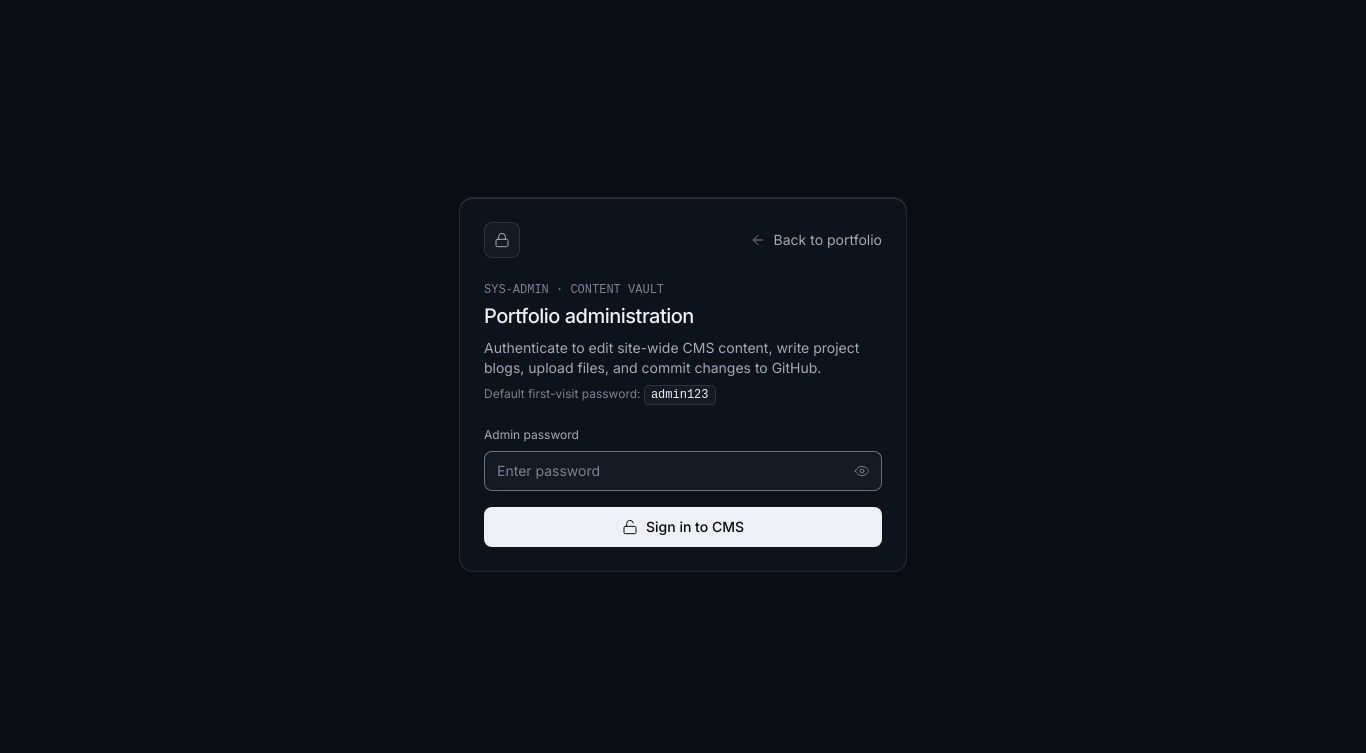
M4 vault + GitHub publish (real behavior) › Commit & push without a token reports an error and makes no GitHub request
Type "admin123" into the password field with placeholder "Enter password" at (683, 470), box [484,450,882,490]
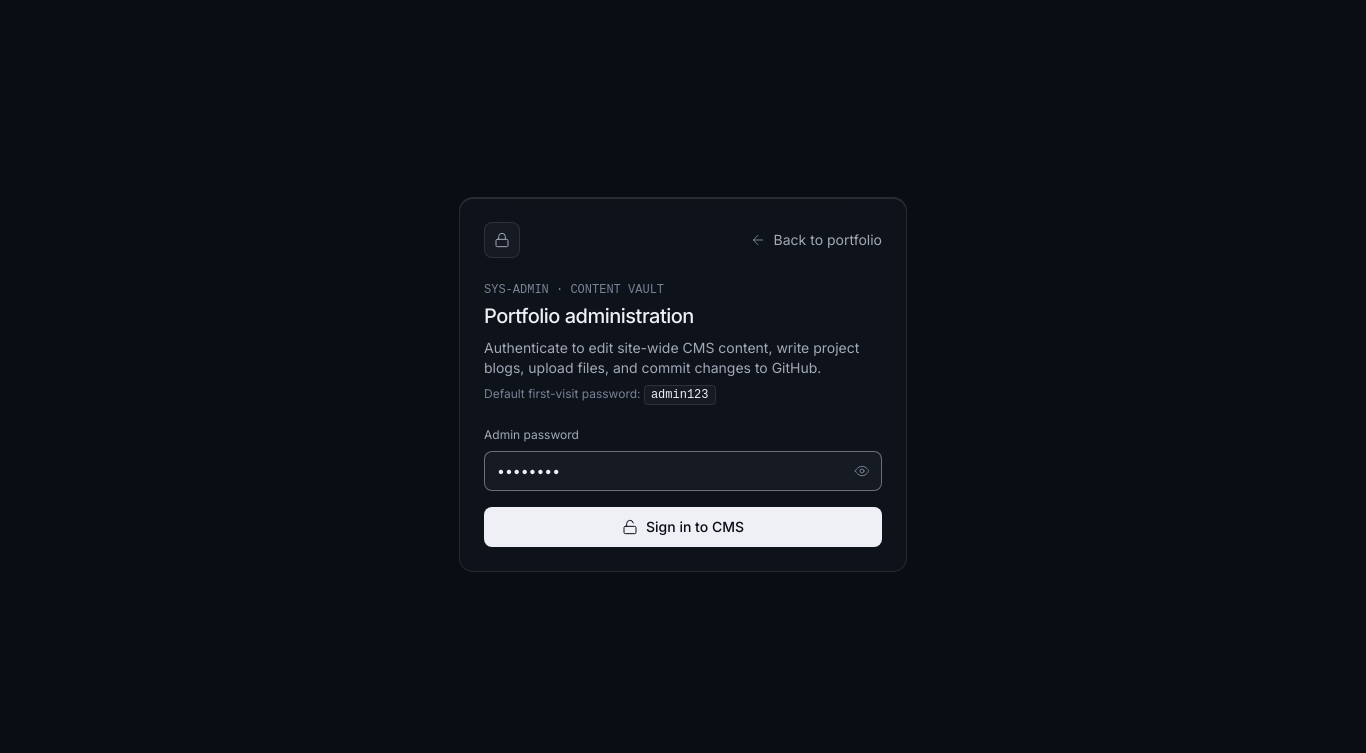
Click the button "Sign in to CMS" at (683, 526), box [484,506,882,546]
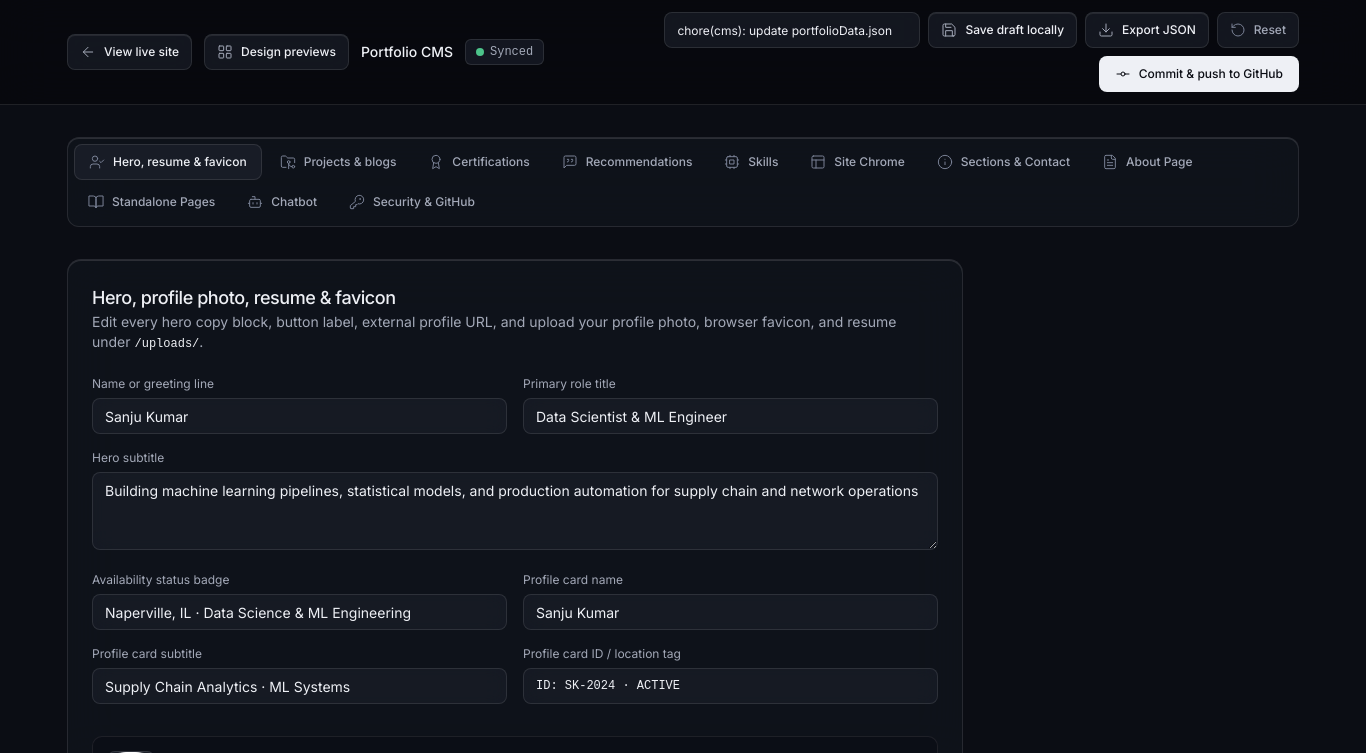
Check: the text "Hero, resume & favicon" is shown, box [113,154,247,170]
Click the button "Commit & push to GitHub" at (1199, 74), box [1099,56,1299,92]
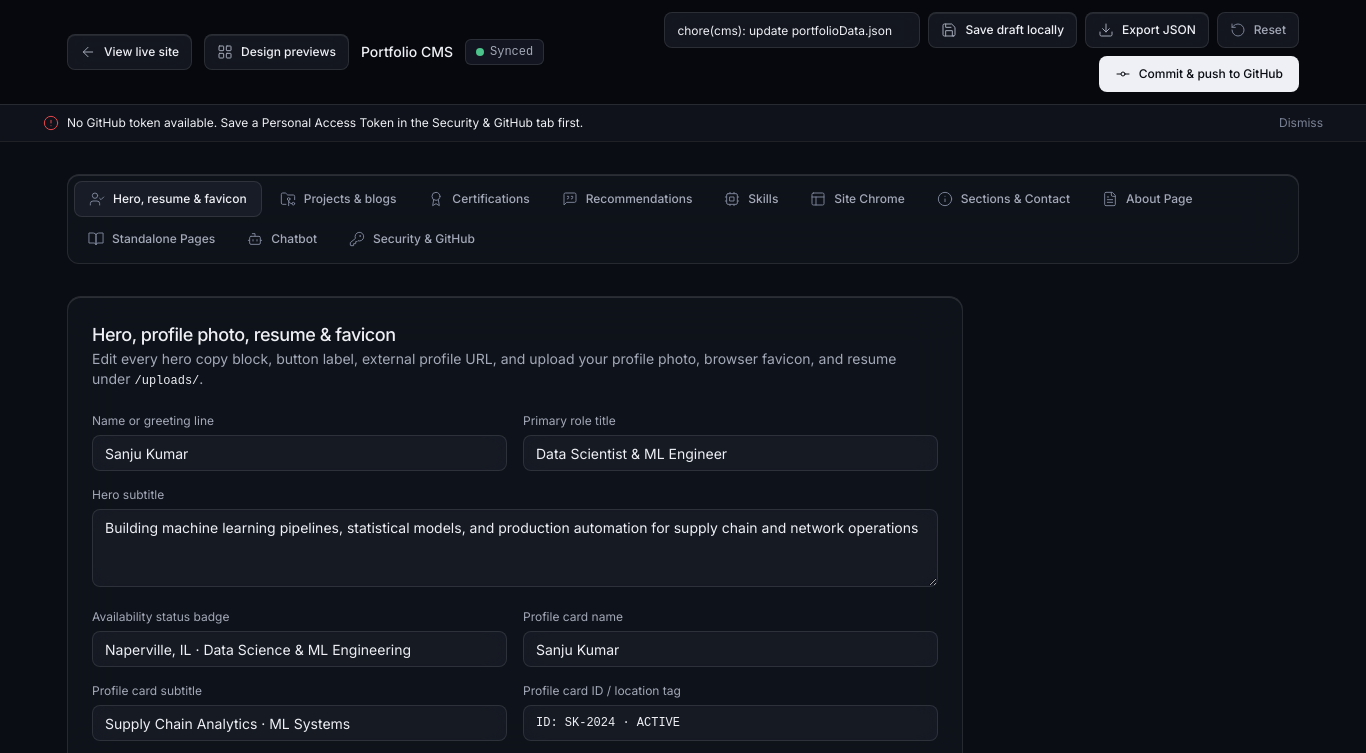
Check: the text "No GitHub token available" is shown, box [67,115,583,130]
